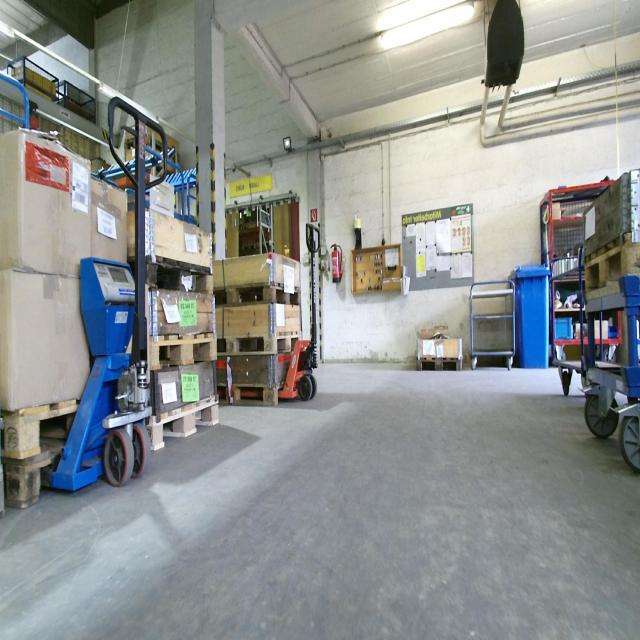pallet: (1, 396, 92, 460), (145, 391, 222, 454), (3, 453, 65, 520), (581, 236, 639, 300), (131, 250, 216, 293), (145, 325, 220, 371), (218, 327, 307, 362), (220, 377, 304, 413), (213, 279, 302, 308), (416, 356, 463, 370)
pallet_truck: (46, 88, 174, 496), (220, 216, 324, 402)
